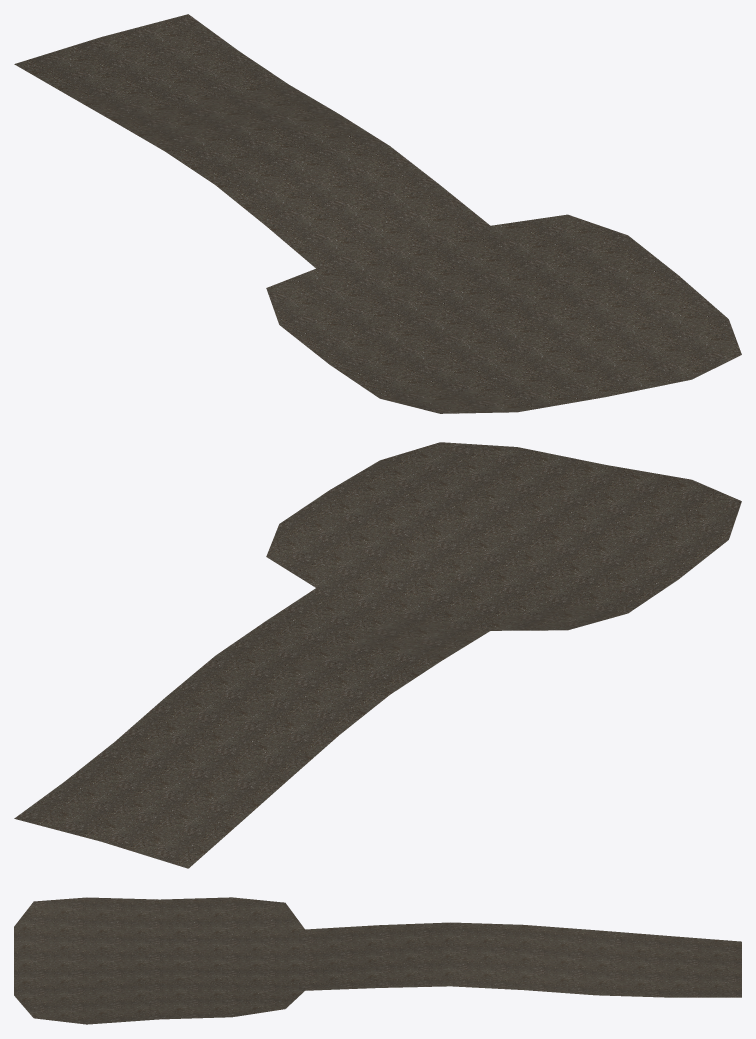
File: dirt.obj
The picture shows the model from 3 angles, top to bottom: view 1: azimuth 30°, elevation 25°; view 2: azimuth 150°, elevation 25°; view 3: azimuth 270°, elevation 25°; orthographic projection. The views are drawn at different scales.
Parts seen in each view (by area): view 1: dirt_Plane; view 2: dirt_Plane; view 3: dirt_Plane.
Boxes of the visible parts, left/top/right/bottom form: dirt_Plane: left=14, top=14, right=741, bottom=413; dirt_Plane: left=14, top=442, right=741, bottom=868; dirt_Plane: left=14, top=897, right=741, bottom=1024.
Size of the model in its own units: 16.19 by 1.17 by 40.49.
1 material, 1 textured.
